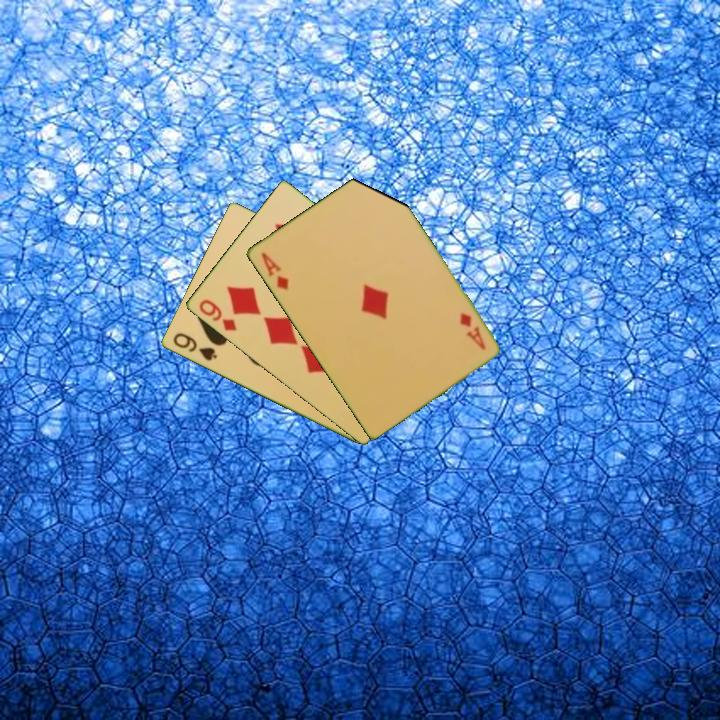9d: (195, 296, 239, 334)
9s: (169, 329, 220, 364)
Ad: (257, 249, 291, 293), (455, 309, 488, 353)
